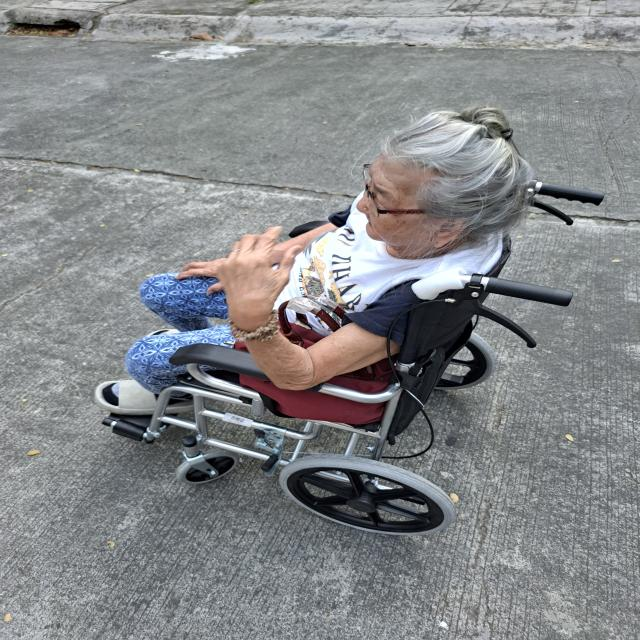wheelchairs: (100, 178, 604, 536)
